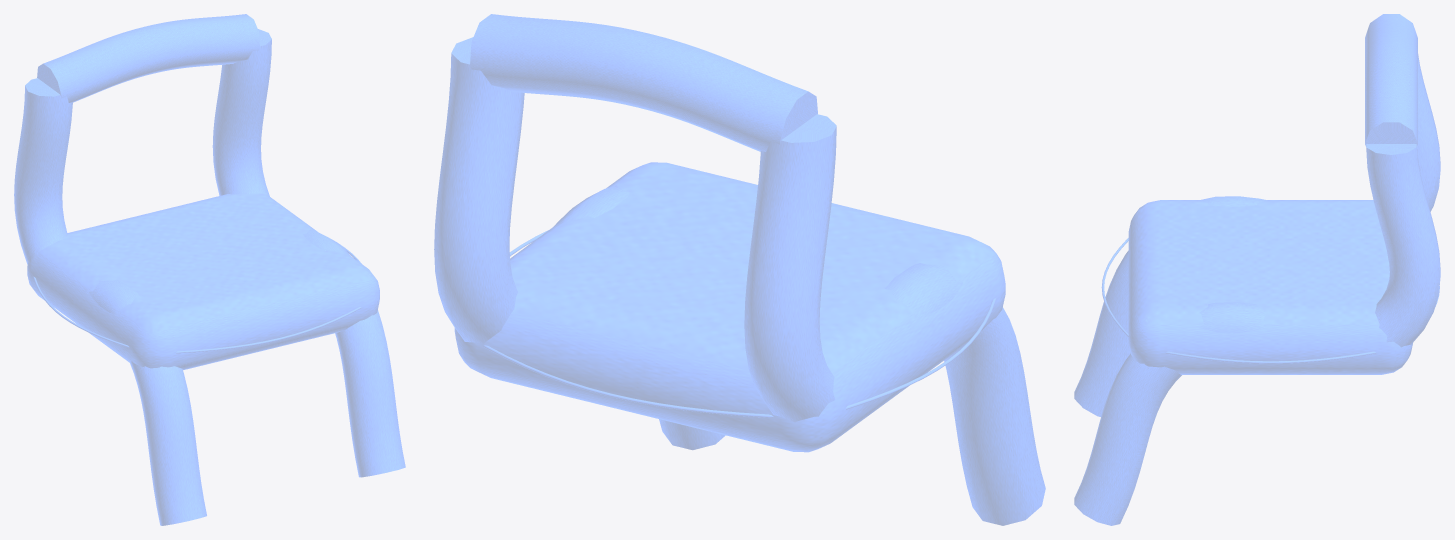
The model's file is ref04_05.glb.
The picture shows the model from 3 angles, left to right: view 1: azimuth 30°, elevation 25°; view 2: azimuth 150°, elevation 25°; view 3: azimuth 270°, elevation 25°; orthographic projection. The views are drawn at different scales.
Parts seen in each view (by area): view 1: ref04_05; view 2: ref04_05; view 3: ref04_05.
Boxes of the visible parts, x1,y1,x2,y2 form: ref04_05: [14, 14, 405, 525]; ref04_05: [434, 14, 1045, 525]; ref04_05: [1074, 14, 1440, 525].
Bounding box in the file's own units: 0.7402 × 0.9442 × 0.7595.
Materials: 1 (1 with a texture image).
